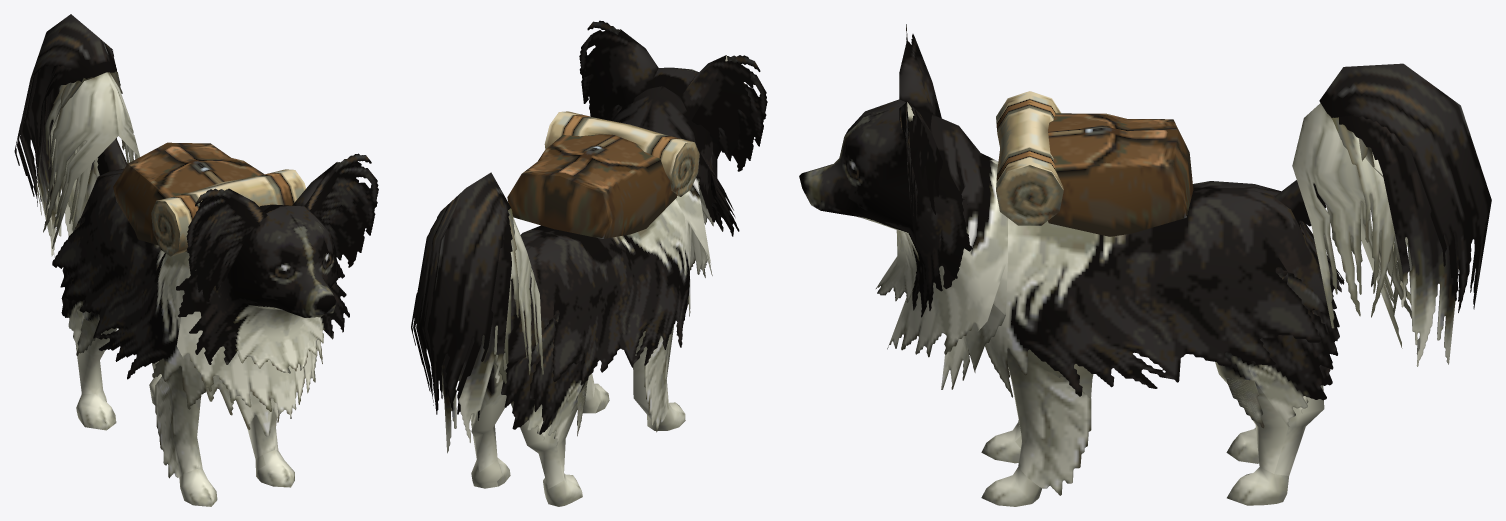
Rendered from pet_falcor_1126b33a.glb.
3 views of the same model, side by side, from view 1: azimuth 30°, elevation 25°; view 2: azimuth 150°, elevation 25°; view 3: azimuth 270°, elevation 25° (orthographic). The views are drawn at different scales.
Size of the model in its own units: 0.5975 by 1.03 by 1.55.
Materials: 1 (1 with a texture image).
